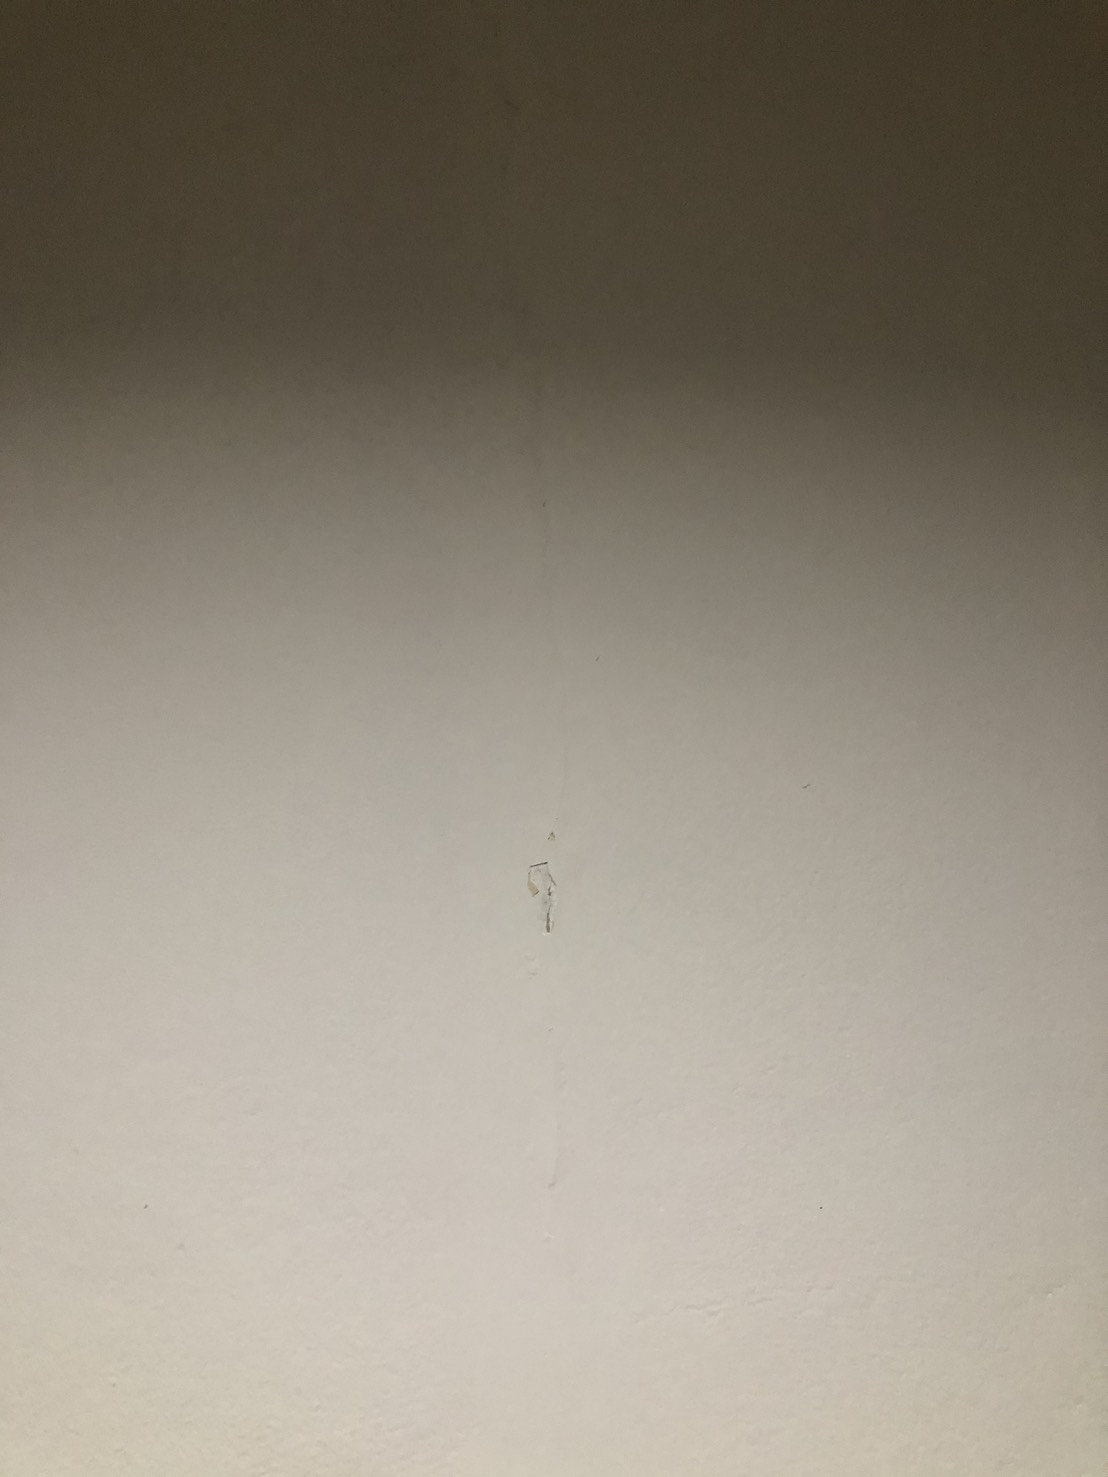Low: (417, 12, 787, 1477)
